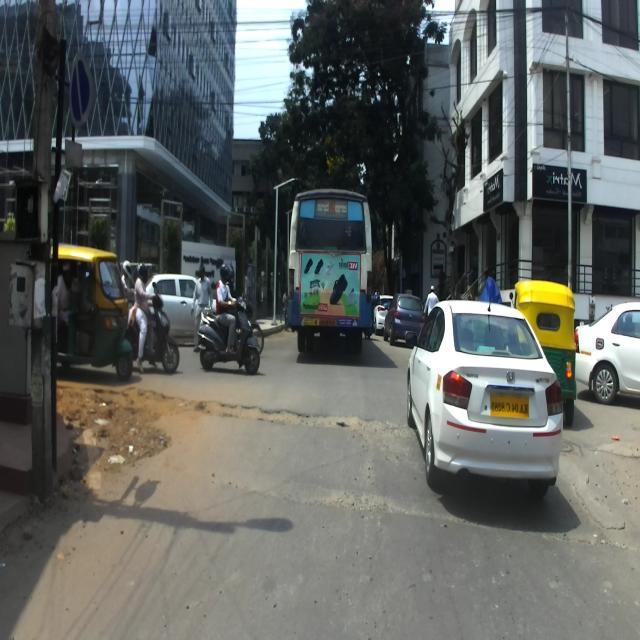pothole: (152, 390, 404, 440)
